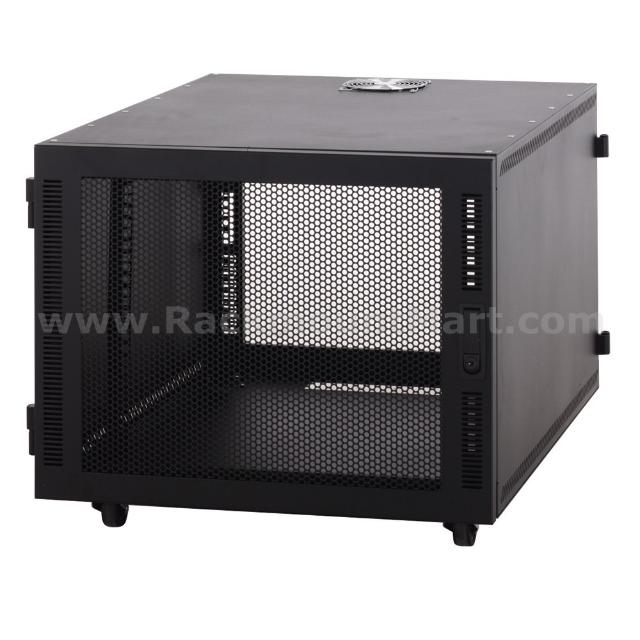Server: (12, 65, 620, 549)
